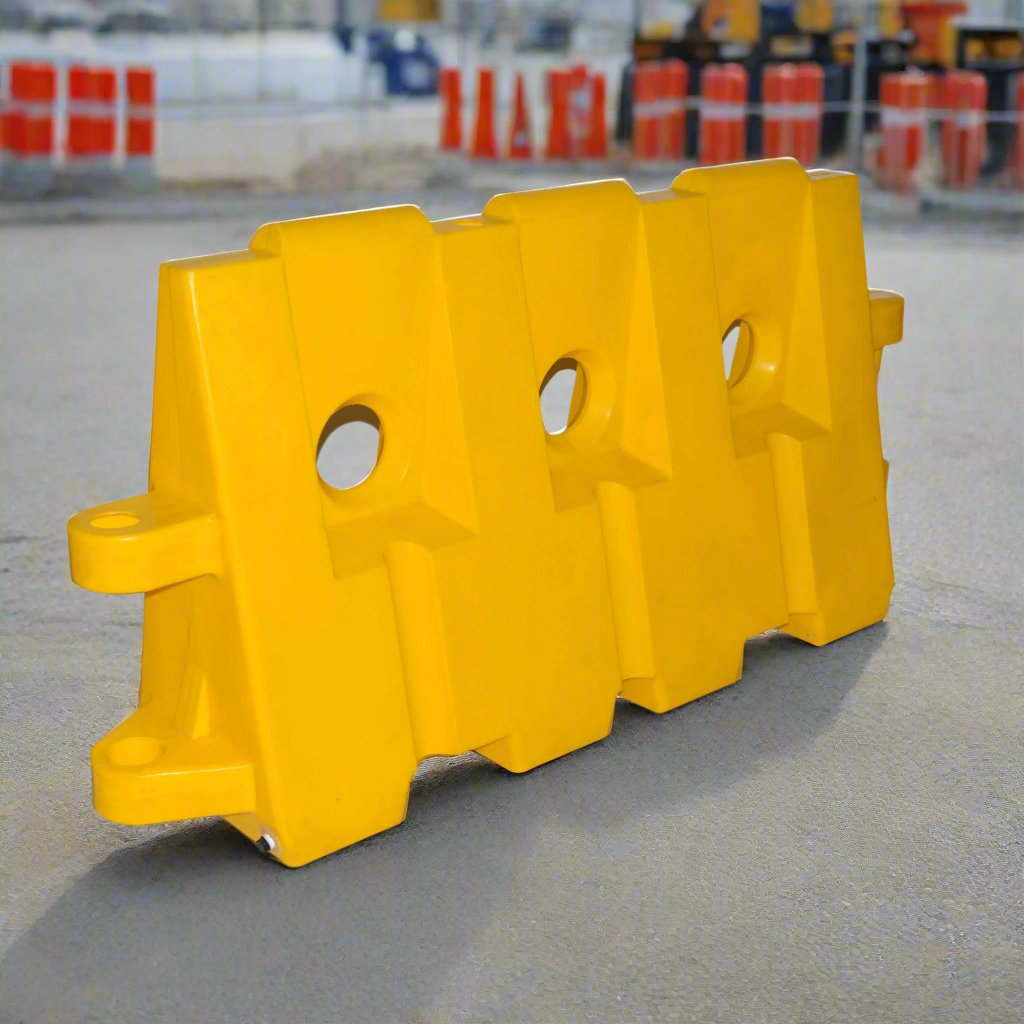Barrier: (48, 147, 924, 881)
